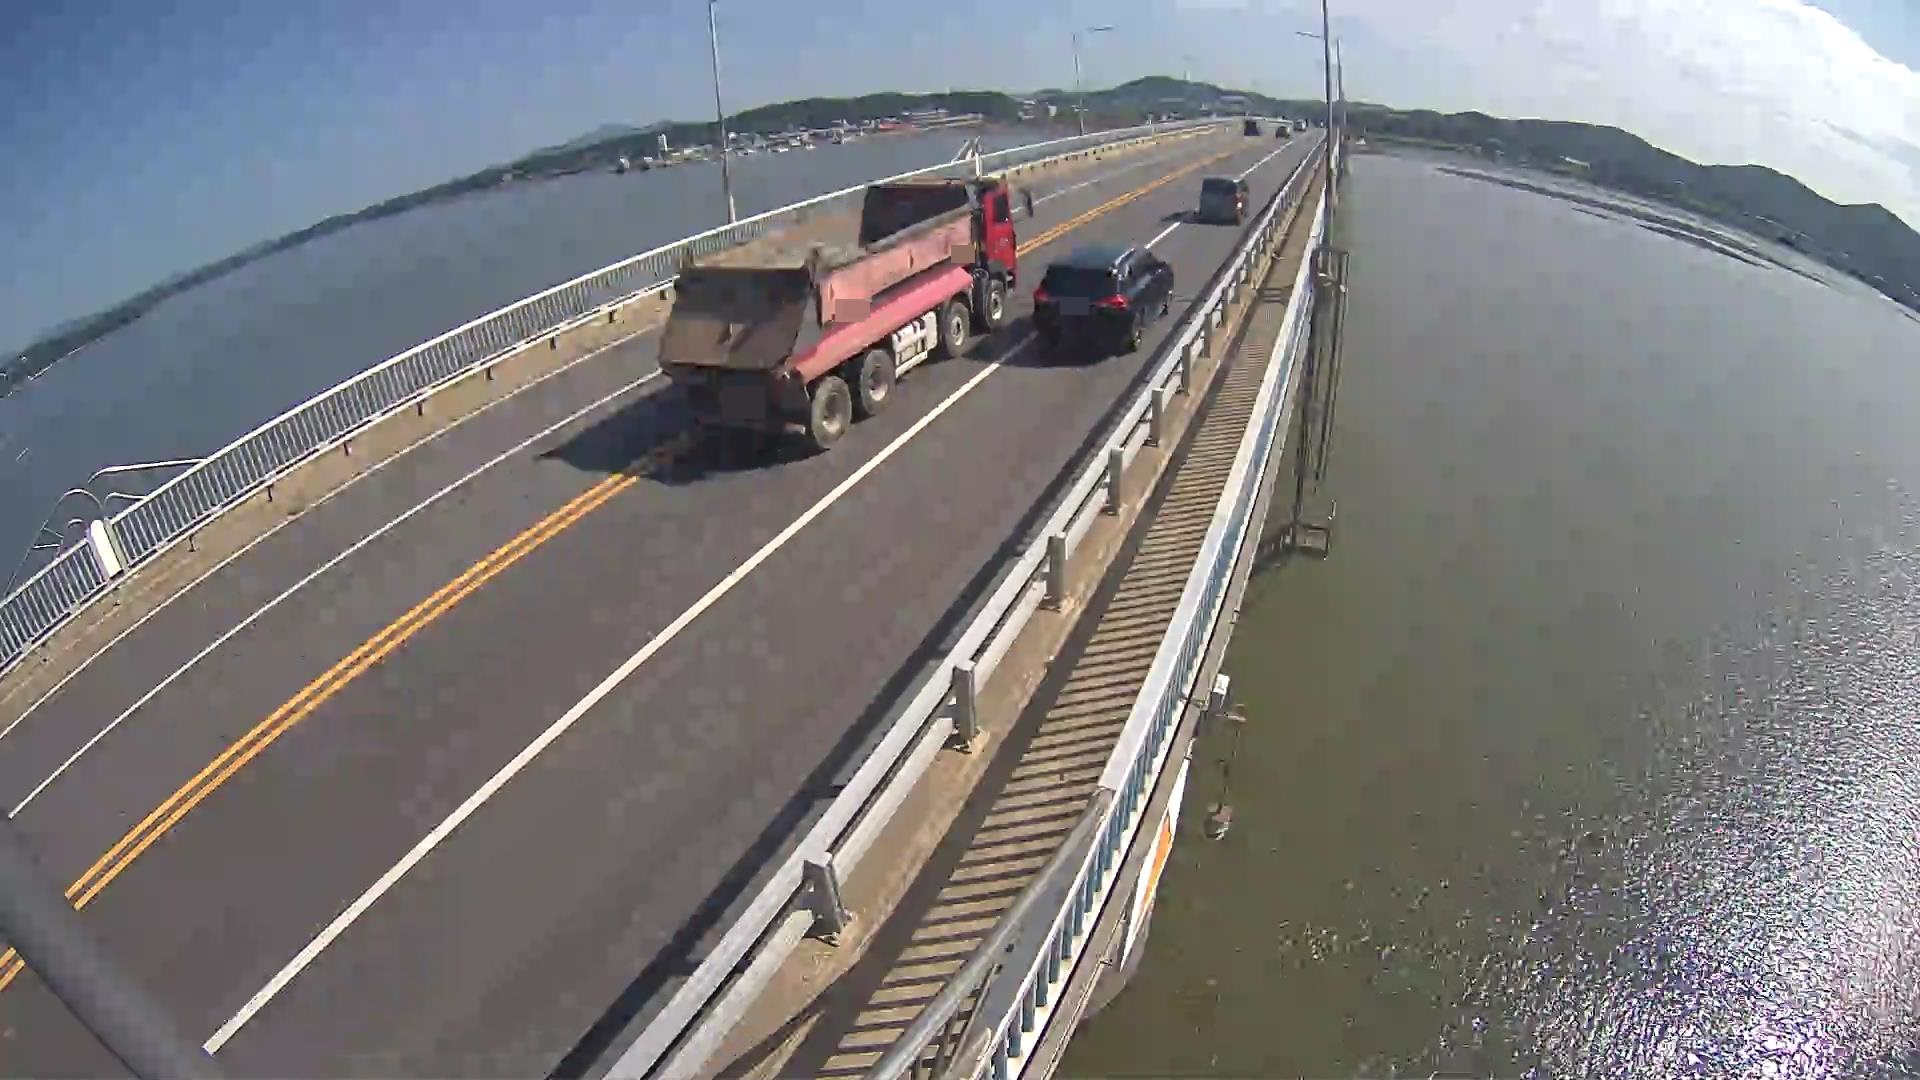정상차량: (658, 174, 1034, 451)
